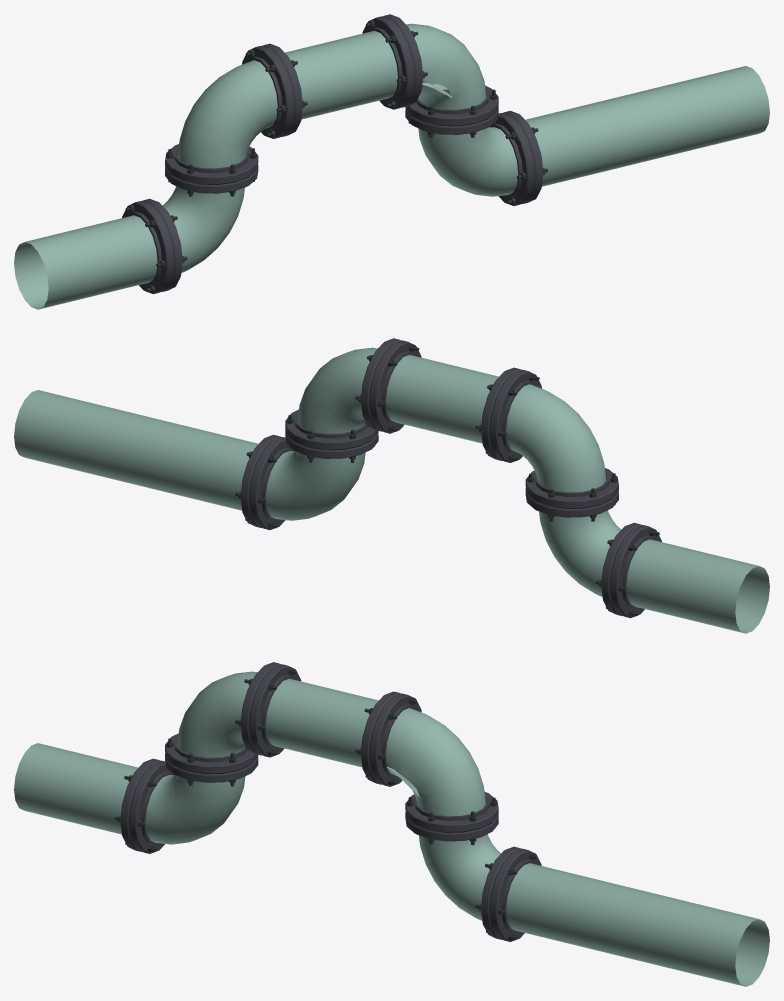
Rendered from PipeComplexLarge_A2_13.fbx.
3 renders of one model, top to bottom at view 1: azimuth 30°, elevation 25°; view 2: azimuth 150°, elevation 25°; view 3: azimuth 330°, elevation 25°, orthographic.
Parts seen in each view (by area): view 1: PipeComplexLarge_A2_13.001; view 2: PipeComplexLarge_A2_13.001; view 3: PipeComplexLarge_A2_13.001.
Boxes of the visible parts, x1=… form: PipeComplexLarge_A2_13.001: x1=14, y1=14, x2=769, y2=309; PipeComplexLarge_A2_13.001: x1=14, y1=338, x2=769, y2=633; PipeComplexLarge_A2_13.001: x1=14, y1=662, x2=769, y2=986.
Bounding box in the file's own units: 2.4 × 0.6712 × 0.2712.
